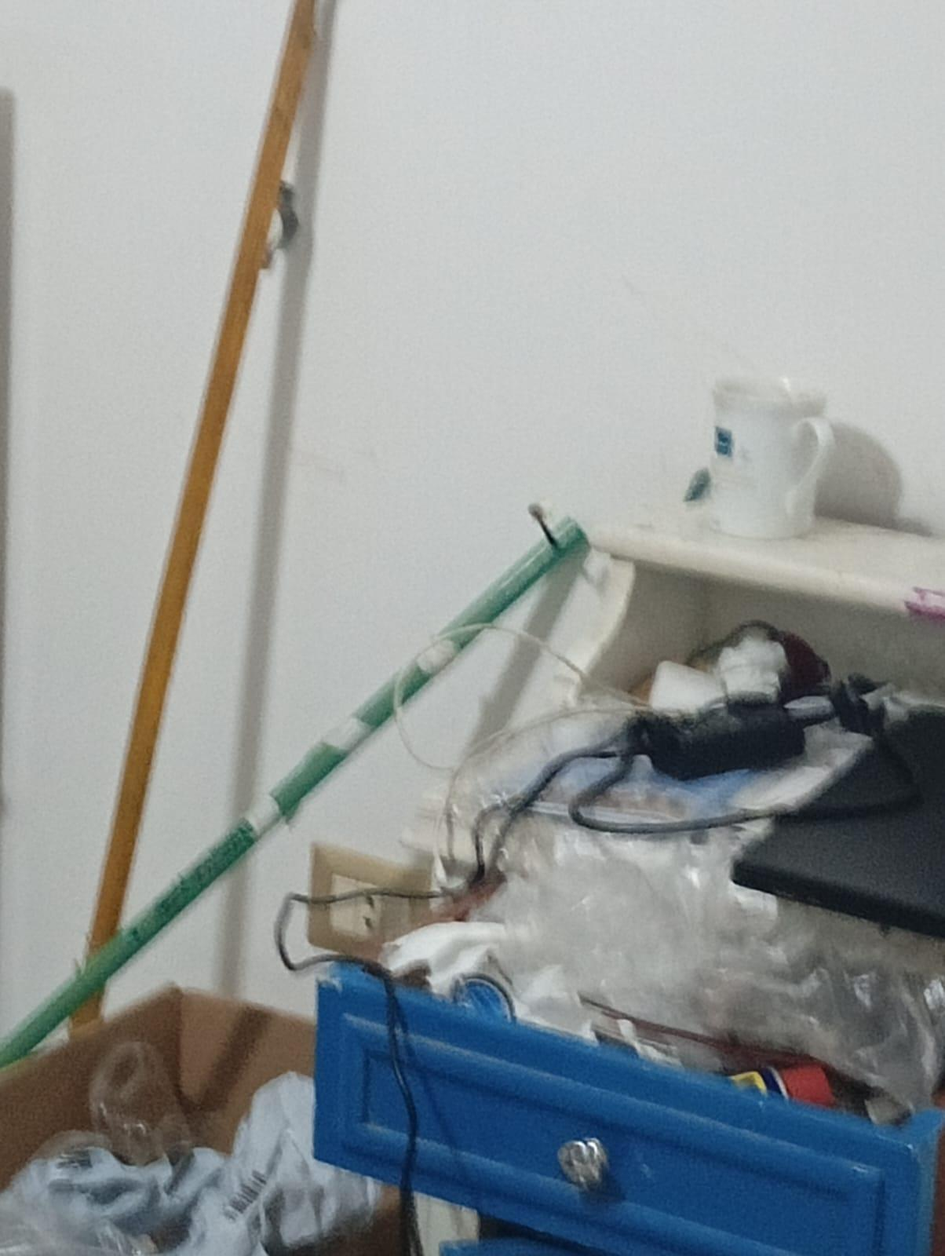cup: (711, 378, 833, 538)
